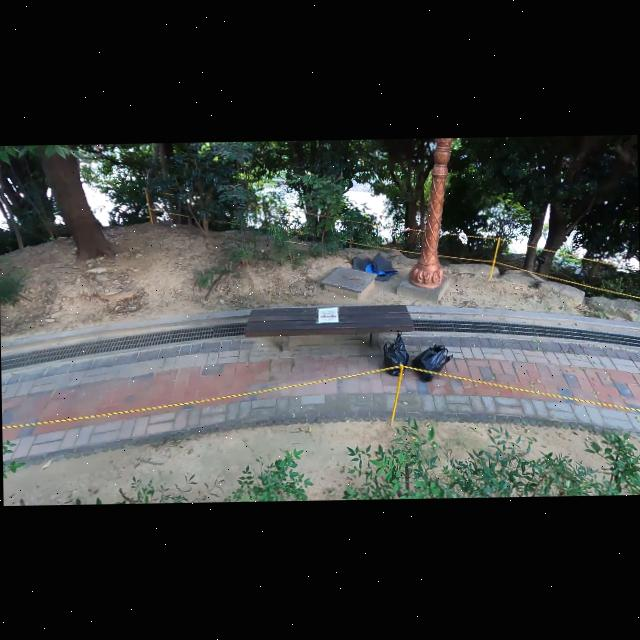trash: (350, 248, 400, 288), (409, 342, 455, 384), (376, 328, 411, 377)
